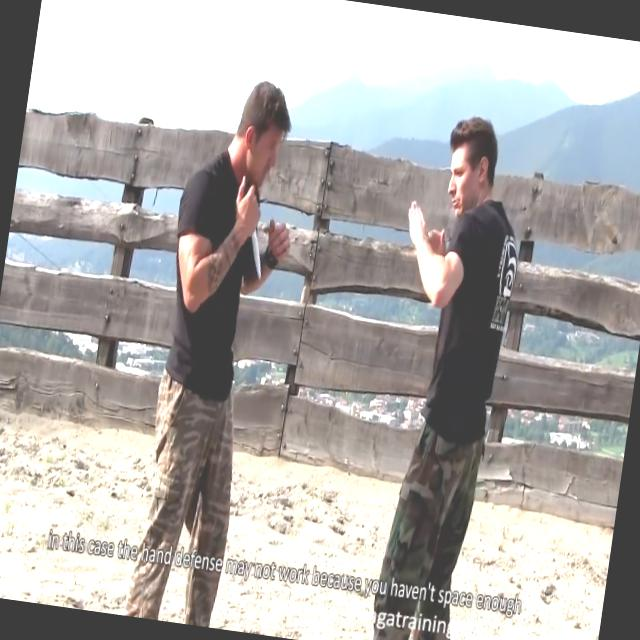knife: (225, 182, 276, 284)
